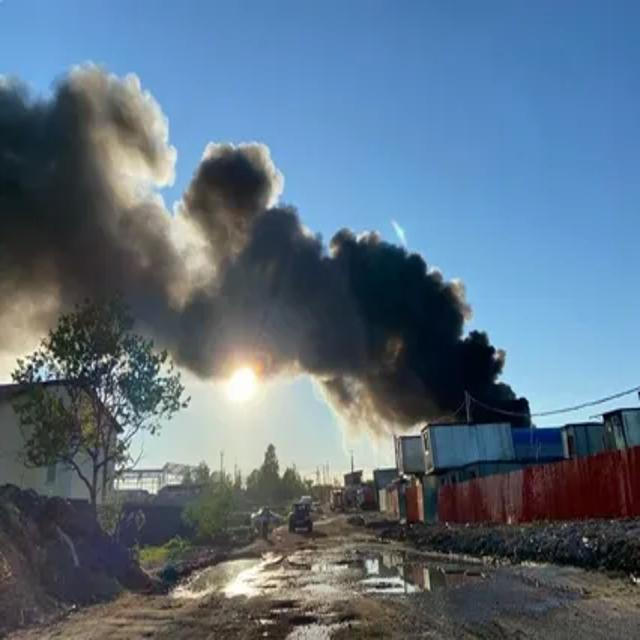Smoke: (0, 84, 533, 428)
